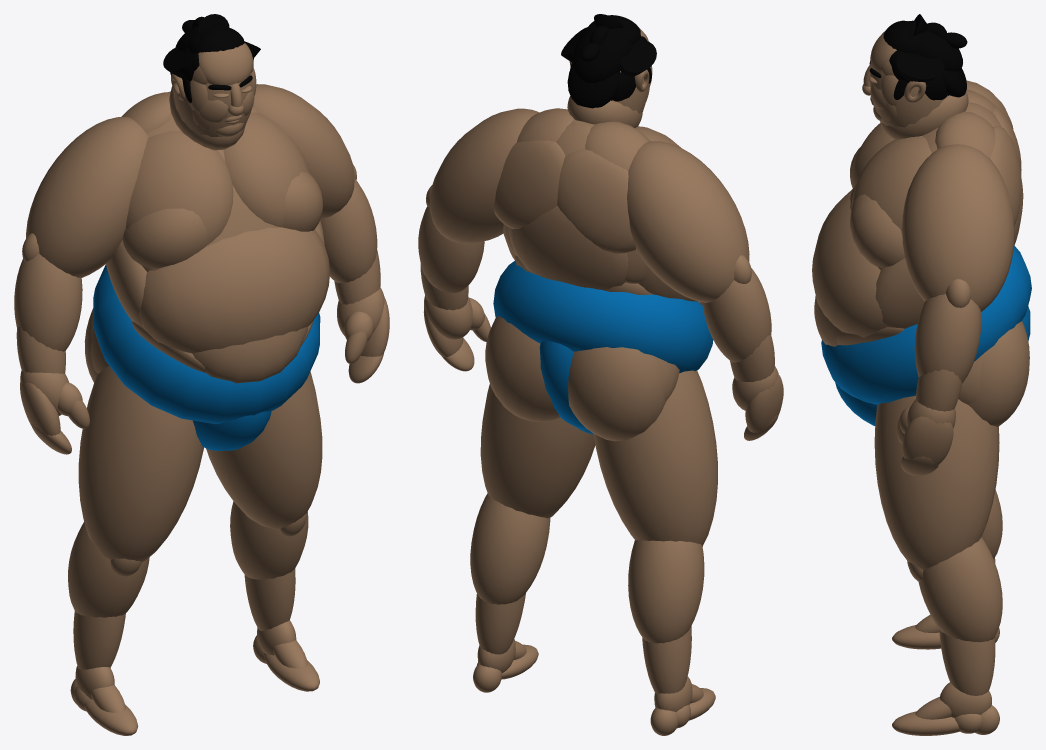
The model's file is Kotoyuki.fbx.
The picture shows the model from 3 angles, left to right: view 1: azimuth 30°, elevation 25°; view 2: azimuth 150°, elevation 25°; view 3: azimuth 270°, elevation 25°; orthographic projection. The views are drawn at different scales.
Parts seen in each view (by area): view 1: Torso1, RightLeg, polySurface103, LeftLeg, Mawashi, polySurface94, polySurface57, polySurface124, polySurface113, pSphere61; view 2: RightLeg, LeftLeg, Torso1, polySurface103, Mawashi, polySurface94, pSphere61, polySurface113, polySurface124, polySurface57; view 3: LeftLeg, Torso1, polySurface94, Mawashi, pSphere61, polySurface57, polySurface113, RightLeg, polySurface103.
Boxes of the visible parts, box(x1,y1,x2,y2) form: Torso1: box(106, 91, 329, 383); RightLeg: box(68, 308, 203, 735); polySurface103: box(14, 116, 148, 373); LeftLeg: box(206, 371, 322, 691); Mawashi: box(93, 264, 320, 450); polySurface94: box(254, 84, 380, 304); polySurface57: box(169, 43, 256, 150); polySurface124: box(20, 370, 89, 454); polySurface113: box(337, 287, 389, 383); pSphere61: box(163, 14, 260, 103); RightLeg: box(568, 347, 717, 735); LeftLeg: box(470, 316, 595, 692); Torso1: box(494, 108, 702, 304); polySurface103: box(627, 141, 774, 381); Mawashi: box(493, 260, 713, 434); polySurface94: box(418, 108, 539, 310); pSphere61: box(561, 14, 656, 108); polySurface113: box(423, 295, 490, 371); polySurface124: box(732, 366, 783, 440); polySurface57: box(567, 28, 652, 127); LeftLeg: box(874, 321, 1029, 735); Torso1: box(812, 89, 1023, 346); polySurface94: box(902, 144, 1014, 411); Mawashi: box(821, 246, 1031, 425); pSphere61: box(869, 14, 967, 100); polySurface57: box(862, 31, 968, 139); polySurface113: box(896, 399, 955, 475); RightLeg: box(892, 306, 1029, 649); polySurface103: box(966, 80, 1013, 129).
Size of the model in its own units: 30.39 by 55.95 by 16.52.
